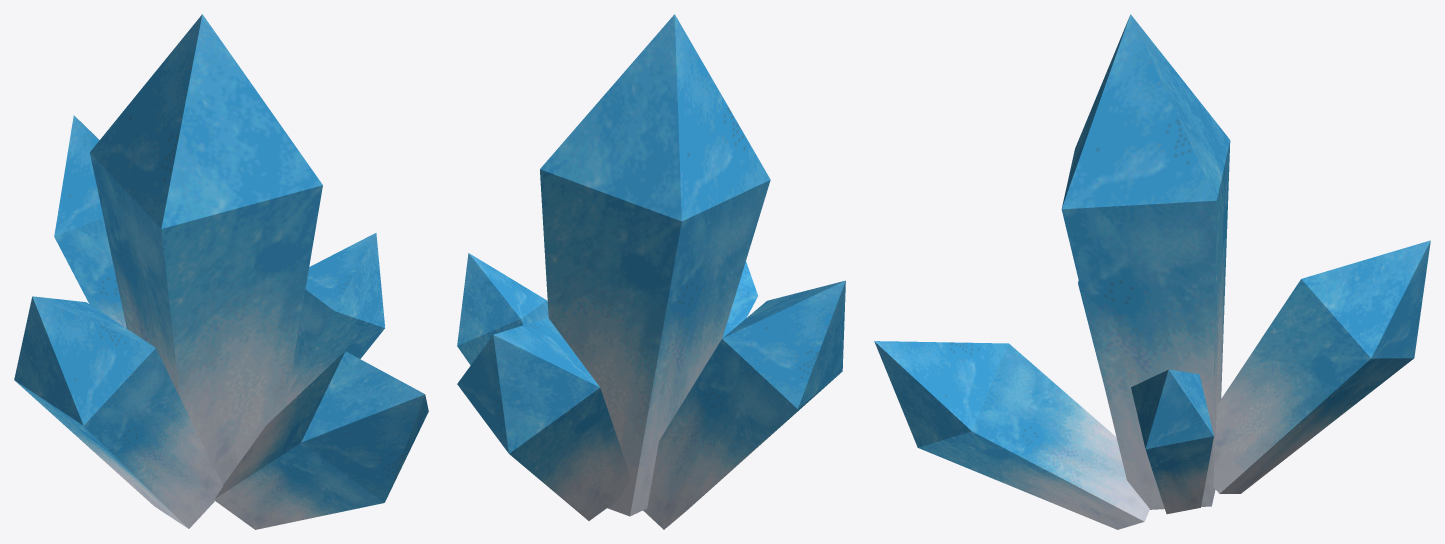
The model's file is Ice_icecake03.FBX.
3 renders of one model, left to right at view 1: azimuth 30°, elevation 25°; view 2: azimuth 150°, elevation 25°; view 3: azimuth 270°, elevation 25°, orthographic. The views are drawn at different scales.
Parts seen in each view (by area): view 1: Box038; view 2: Box038; view 3: Box038.
Part boxes in pixels (x1,y1,x2,y2): Box038: [14, 14, 428, 529]; Box038: [457, 14, 845, 529]; Box038: [874, 14, 1430, 529].
Bounding box in the file's own units: 283 × 384 × 392.
